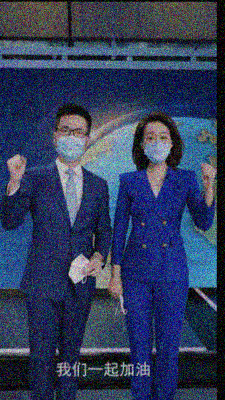with_mask: (54, 125, 87, 161), (143, 130, 172, 165)
